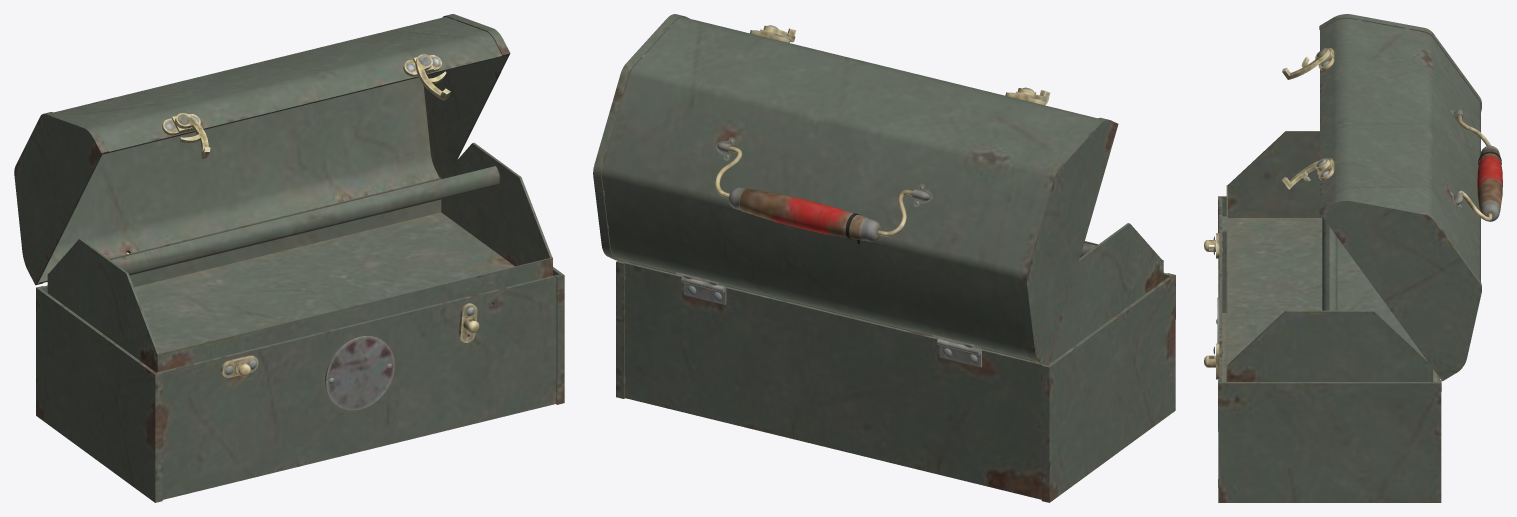
File: metal_toolbox.gltf
The picture shows the model from 3 angles, left to right: view 1: azimuth 30°, elevation 25°; view 2: azimuth 150°, elevation 25°; view 3: azimuth 270°, elevation 25°; orthographic projection. The views are drawn at different scales.
Parts seen in each view (by area): view 1: metal_toolbox_lid, metal_toolbox, metal_toolbox_tray, metal_toolbox_handle_latch_r, metal_toolbox_handle_latch_l; view 2: metal_toolbox_lid, metal_toolbox, metal_toolbox_tray, metal_toolbox_handle; view 3: metal_toolbox_lid, metal_toolbox_tray, metal_toolbox, metal_toolbox_handle, metal_toolbox_handle_latch_l, metal_toolbox_handle_latch_r.
Boxes of the visible parts, x1,y1,x2,y2 form: metal_toolbox_lid: (14,14,510,285); metal_toolbox: (36,267,564,502); metal_toolbox_tray: (47,142,552,372); metal_toolbox_handle_latch_r: (415,54,450,100); metal_toolbox_handle_latch_l: (175,113,210,158); metal_toolbox_lid: (593,14,1118,365); metal_toolbox: (616,260,1175,502); metal_toolbox_tray: (628,223,1163,363); metal_toolbox_handle: (715,146,912,244); metal_toolbox_lid: (1317,14,1481,381); metal_toolbox_tray: (1226,131,1432,381); metal_toolbox: (1204,196,1441,502); metal_toolbox_handle: (1457,114,1502,221); metal_toolbox_handle_latch_l: (1282,48,1330,79); metal_toolbox_handle_latch_r: (1282,158,1330,189).
Bounding box in the file's own units: 0.4 × 0.3047 × 0.2705.
1 material, 1 textured.
